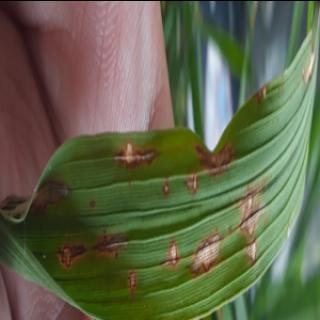Blast: (47, 228, 129, 271), (232, 168, 264, 264), (186, 218, 233, 282), (19, 166, 77, 214), (200, 134, 252, 174), (107, 145, 159, 164), (156, 237, 188, 257)
